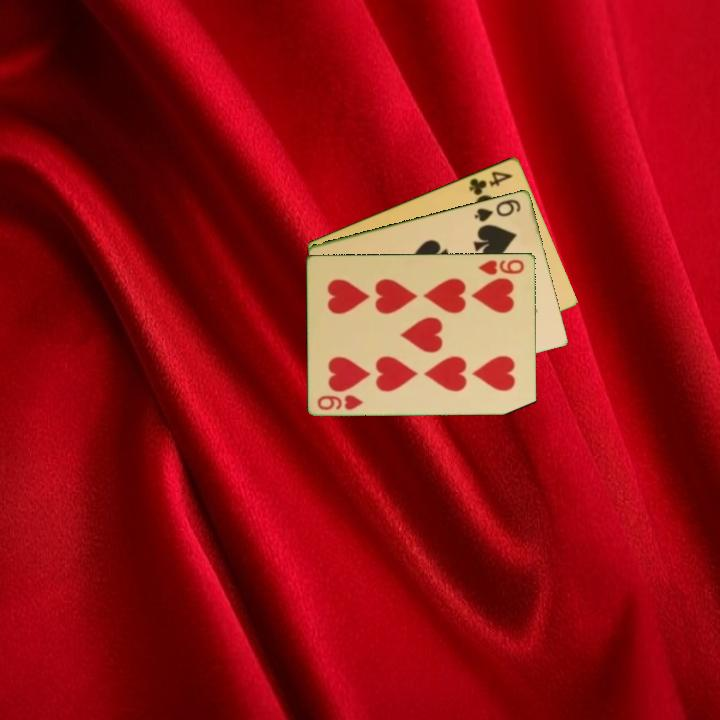4c: (466, 167, 516, 198)
6s: (471, 195, 524, 224)
9h: (475, 256, 527, 277), (314, 391, 366, 412)
